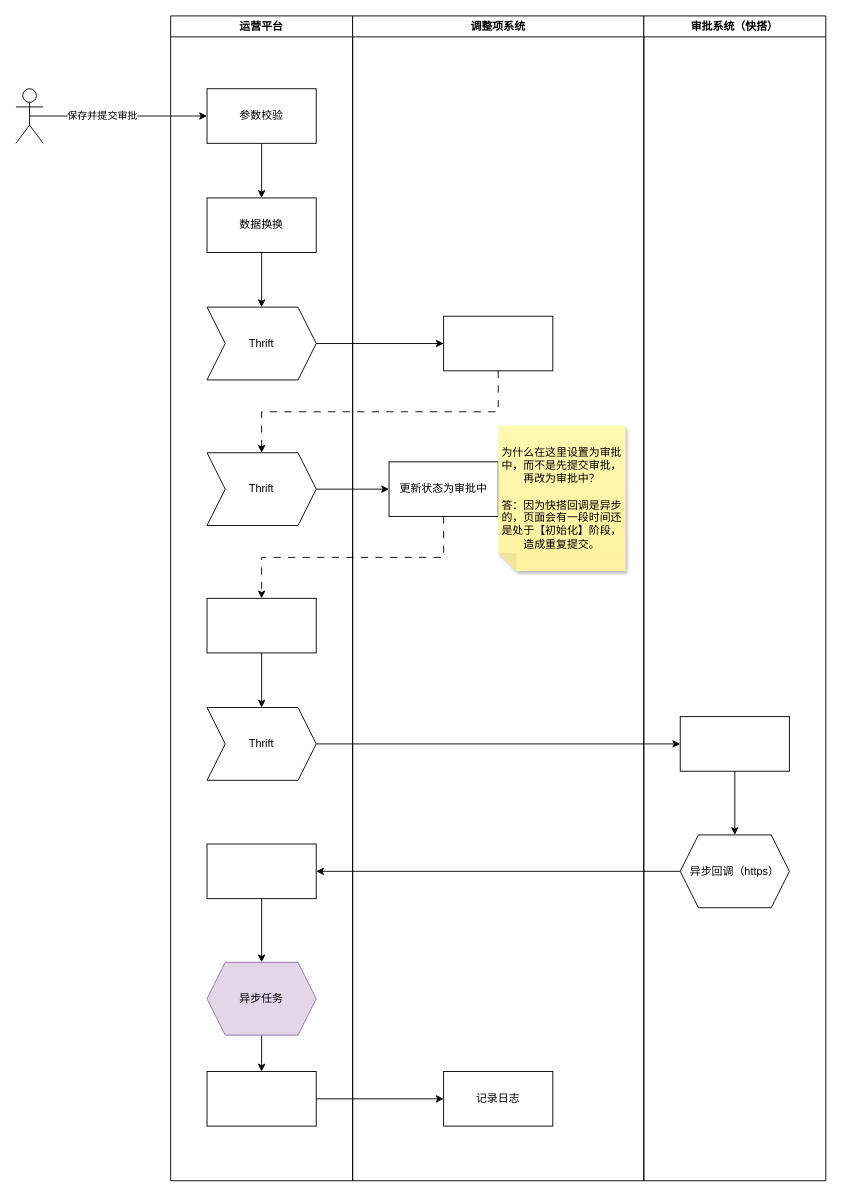
Some shapes in this 842 by 1197 pixel diagram are drawn without their labels. The centre of each missing label's shape, as x and y in pixels:
"Actor" goes at point (29, 115).
"保存数据" goes at point (498, 343).
"执行器" goes at point (261, 1098).
"接收快搭回调数据" goes at point (261, 871).
"提交审批" goes at point (734, 743).
"组装表单，准备提交审批" goes at point (261, 625).
